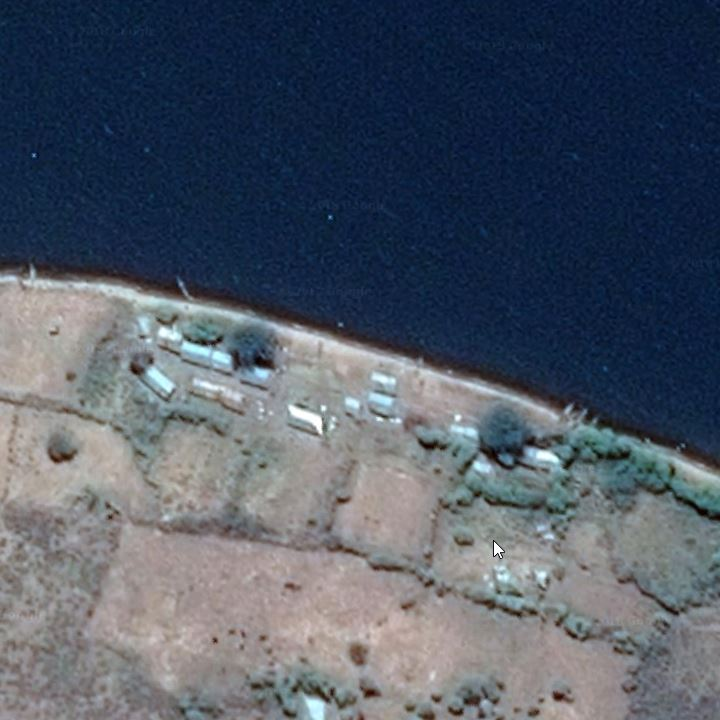boat: (172, 275, 196, 304), (22, 257, 39, 286), (562, 395, 576, 424), (576, 408, 589, 426)
